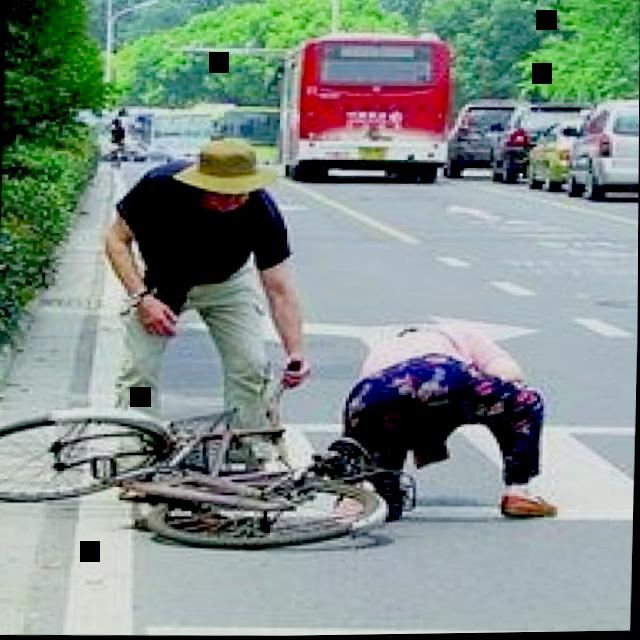Fall-Detected: (320, 292, 583, 532)
